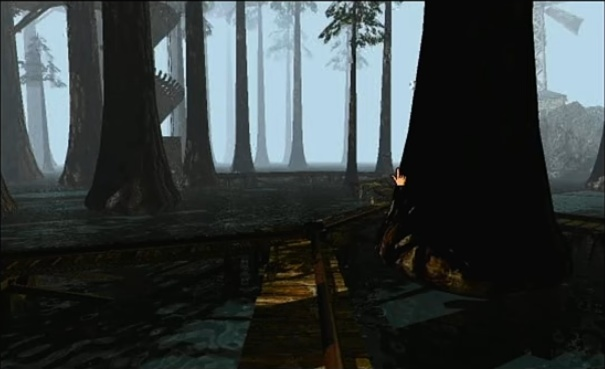Pointer: (389, 163, 411, 189)
